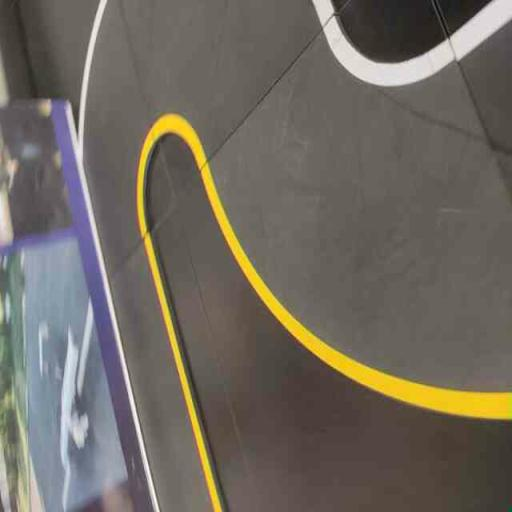right: (192, 0, 511, 421)
